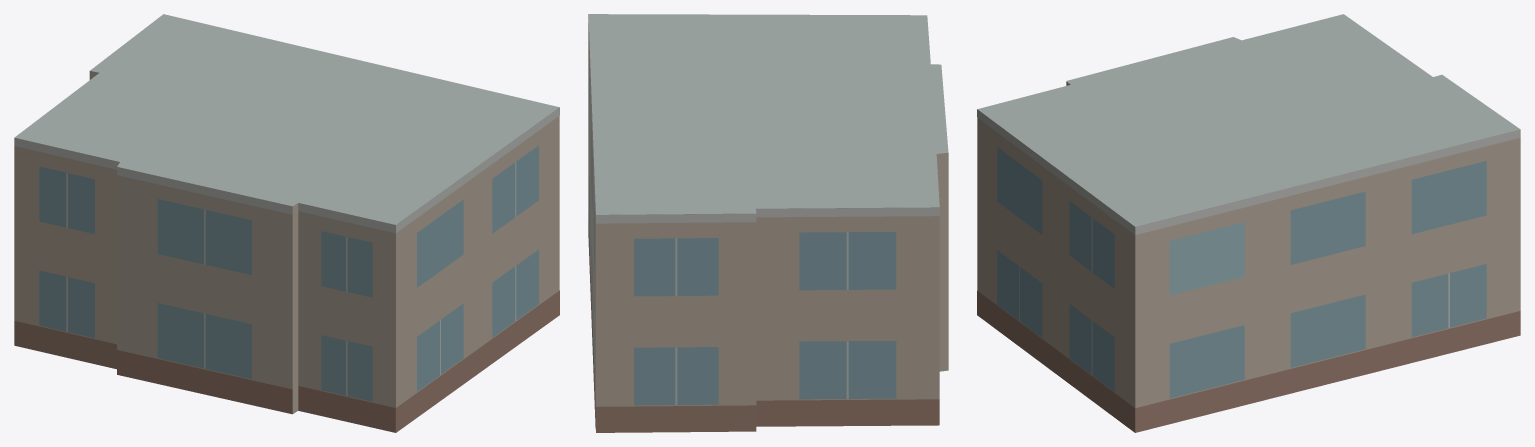
File: survey-upis-32653172.glb
3 views of the same model, side by side, from view 1: azimuth 30°, elevation 25°; view 2: azimuth 150°, elevation 25°; view 3: azimuth 270°, elevation 25° (orthographic). The views are drawn at different scales.
Parts seen in each view (by area): view 1: survey-upis-32653172.tmp; view 2: survey-upis-32653172.tmp; view 3: survey-upis-32653172.tmp.
Boxes of the visible parts, <box> form: survey-upis-32653172.tmp: <box>14,14,559,432</box>; survey-upis-32653172.tmp: <box>588,14,948,432</box>; survey-upis-32653172.tmp: <box>977,14,1520,432</box>.
Bounding box in the file's own units: 13.53 × 6.1 × 14.59.
